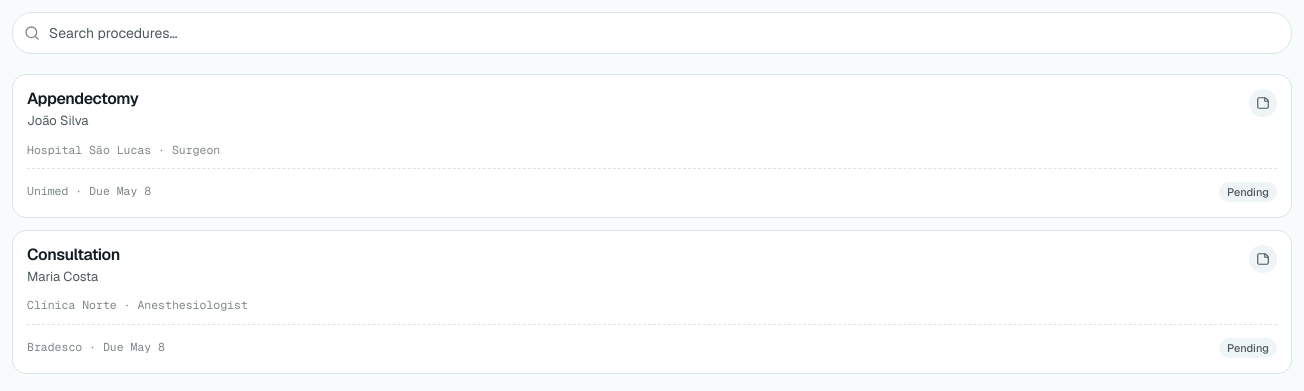
it: ProcedureList search › filters by procedure name
Type "append" into the search field with placeholder "Search procedures…".
click(652, 33); type("append")  # box [12,12,1292,54]
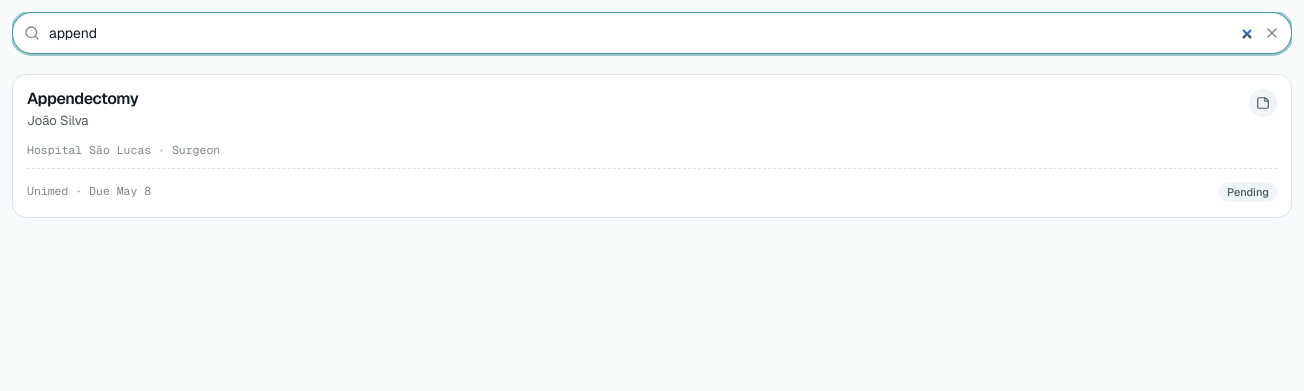
Expected: the text "Appendectomy" is shown, [27,88,138,109]
Expected: the text "Consultation" is gone
